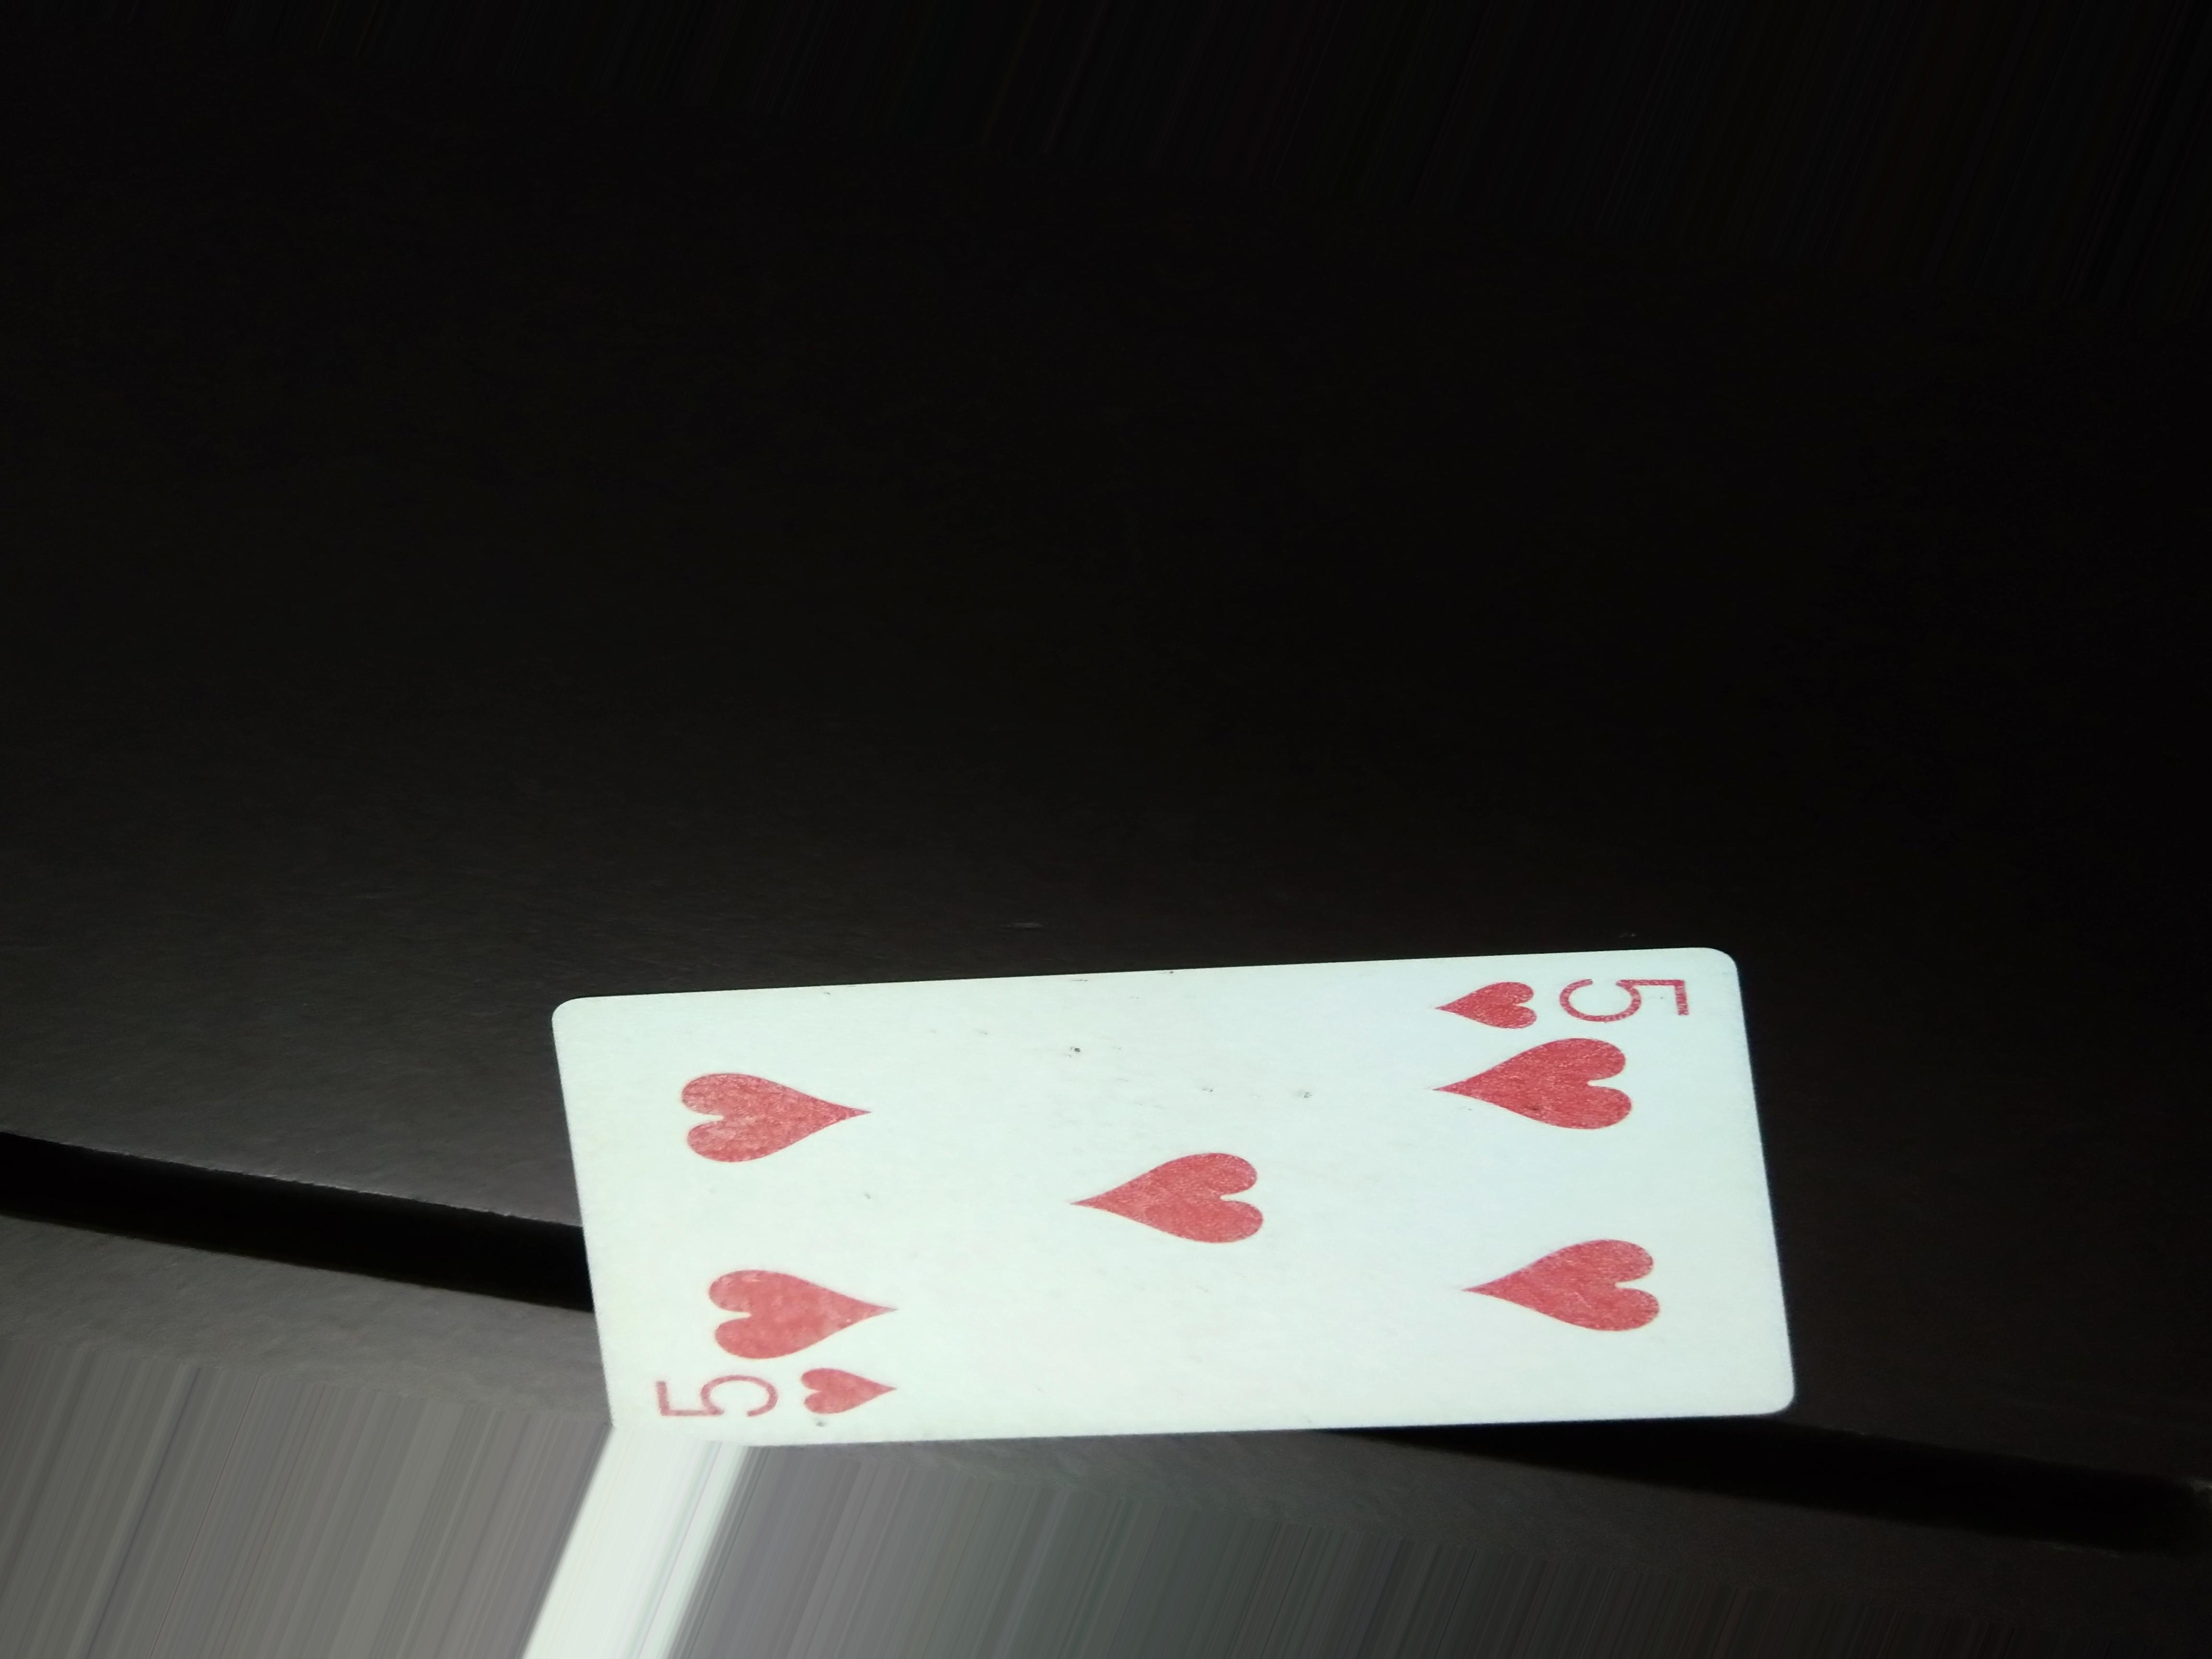5H: (1411, 964, 1712, 1030)
